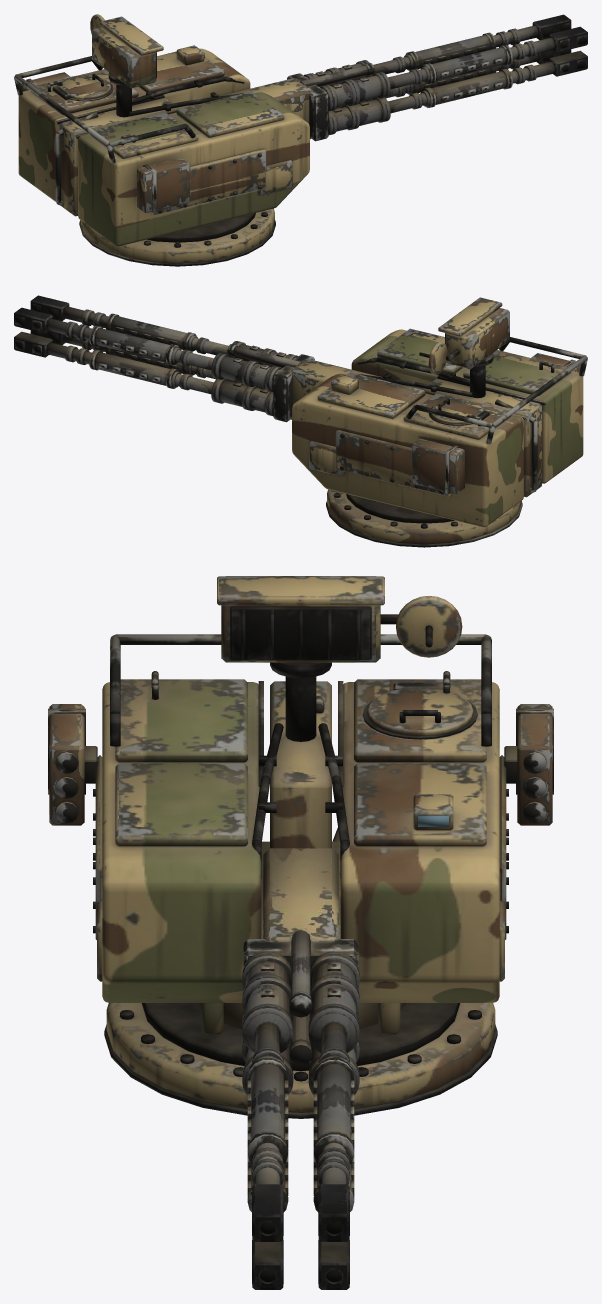
File: turret_kit_quad_reed.glb
3 views of the same model, one above another, from view 1: azimuth 30°, elevation 25°; view 2: azimuth 150°, elevation 25°; view 3: azimuth 270°, elevation 25° (orthographic). The views are drawn at different scales.
Parts seen in each view (by area): view 1: turret_twin_quad, guns, pods; view 2: turret_twin_quad, guns, pods; view 3: turret_twin_quad, guns, pods.
Boxes of the visible parts, x1=… form: turret_twin_quad: x1=14, y1=14, x2=309, y2=266; guns: x1=220, y1=14, x2=587, y2=141; pods: x1=20, y1=72, x2=190, y2=213; turret_twin_quad: x1=292, y1=297, x2=587, y2=547; guns: x1=14, y1=295, x2=382, y2=422; pods: x1=411, y1=353, x2=581, y2=494; turret_twin_quad: x1=93, y1=576, x2=508, y2=1118; guns: x1=242, y1=848, x2=359, y2=1289; pods: x1=48, y1=704, x2=553, y2=825.
Bounding box in the file's own units: 2.7 × 1.01 × 1.15.
4 materials, 3 textured.
